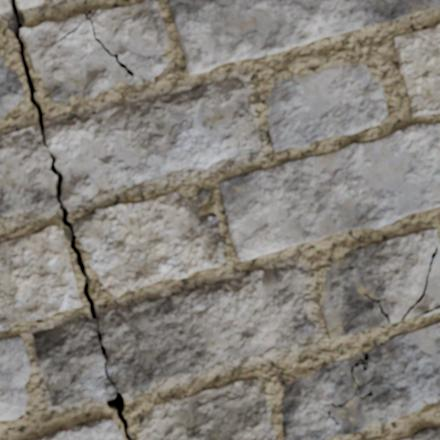brick: (219, 123, 439, 260), (169, 0, 439, 74), (281, 323, 439, 439), (74, 189, 224, 296), (21, 0, 167, 103), (321, 229, 439, 338), (267, 64, 386, 150), (0, 225, 81, 329), (139, 378, 275, 439), (394, 24, 439, 115), (0, 337, 29, 419), (37, 418, 120, 439), (0, 57, 22, 117), (402, 428, 439, 439)
broken_brick: (97, 264, 316, 395), (46, 77, 260, 208), (33, 317, 114, 406), (0, 126, 58, 218), (17, 0, 44, 9), (0, 0, 9, 13)
crack: (2, 0, 134, 439), (51, 9, 134, 77), (309, 352, 373, 425), (400, 246, 439, 320), (363, 292, 390, 324)
